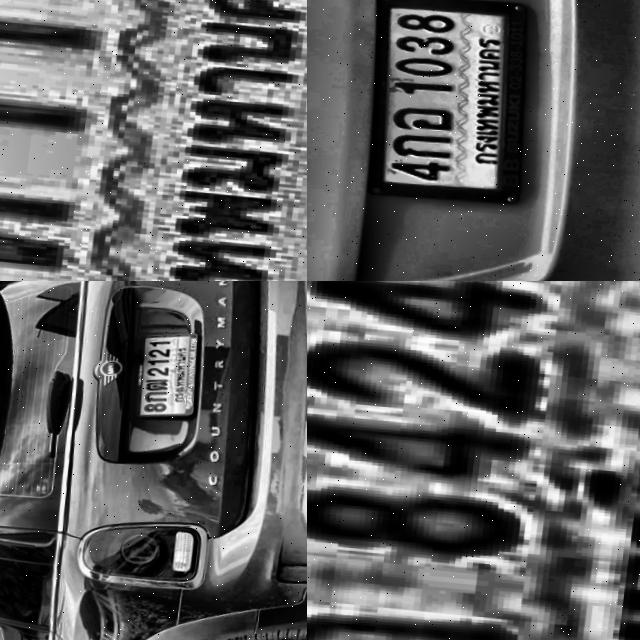license-plate: (307, 281, 640, 640), (0, 0, 307, 281), (351, 0, 553, 209), (128, 326, 211, 420)
